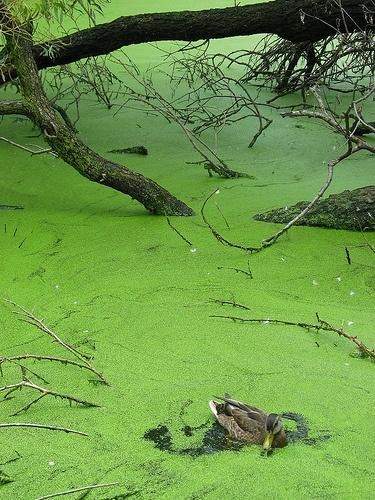bird: (207, 392, 291, 453)
